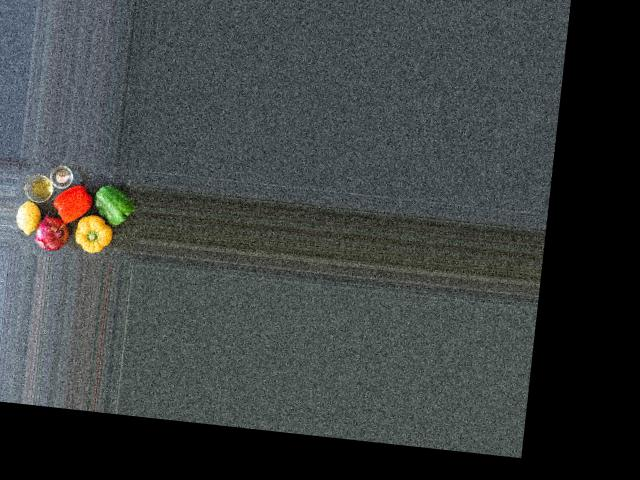bell_pepper: (52, 181, 93, 226)
